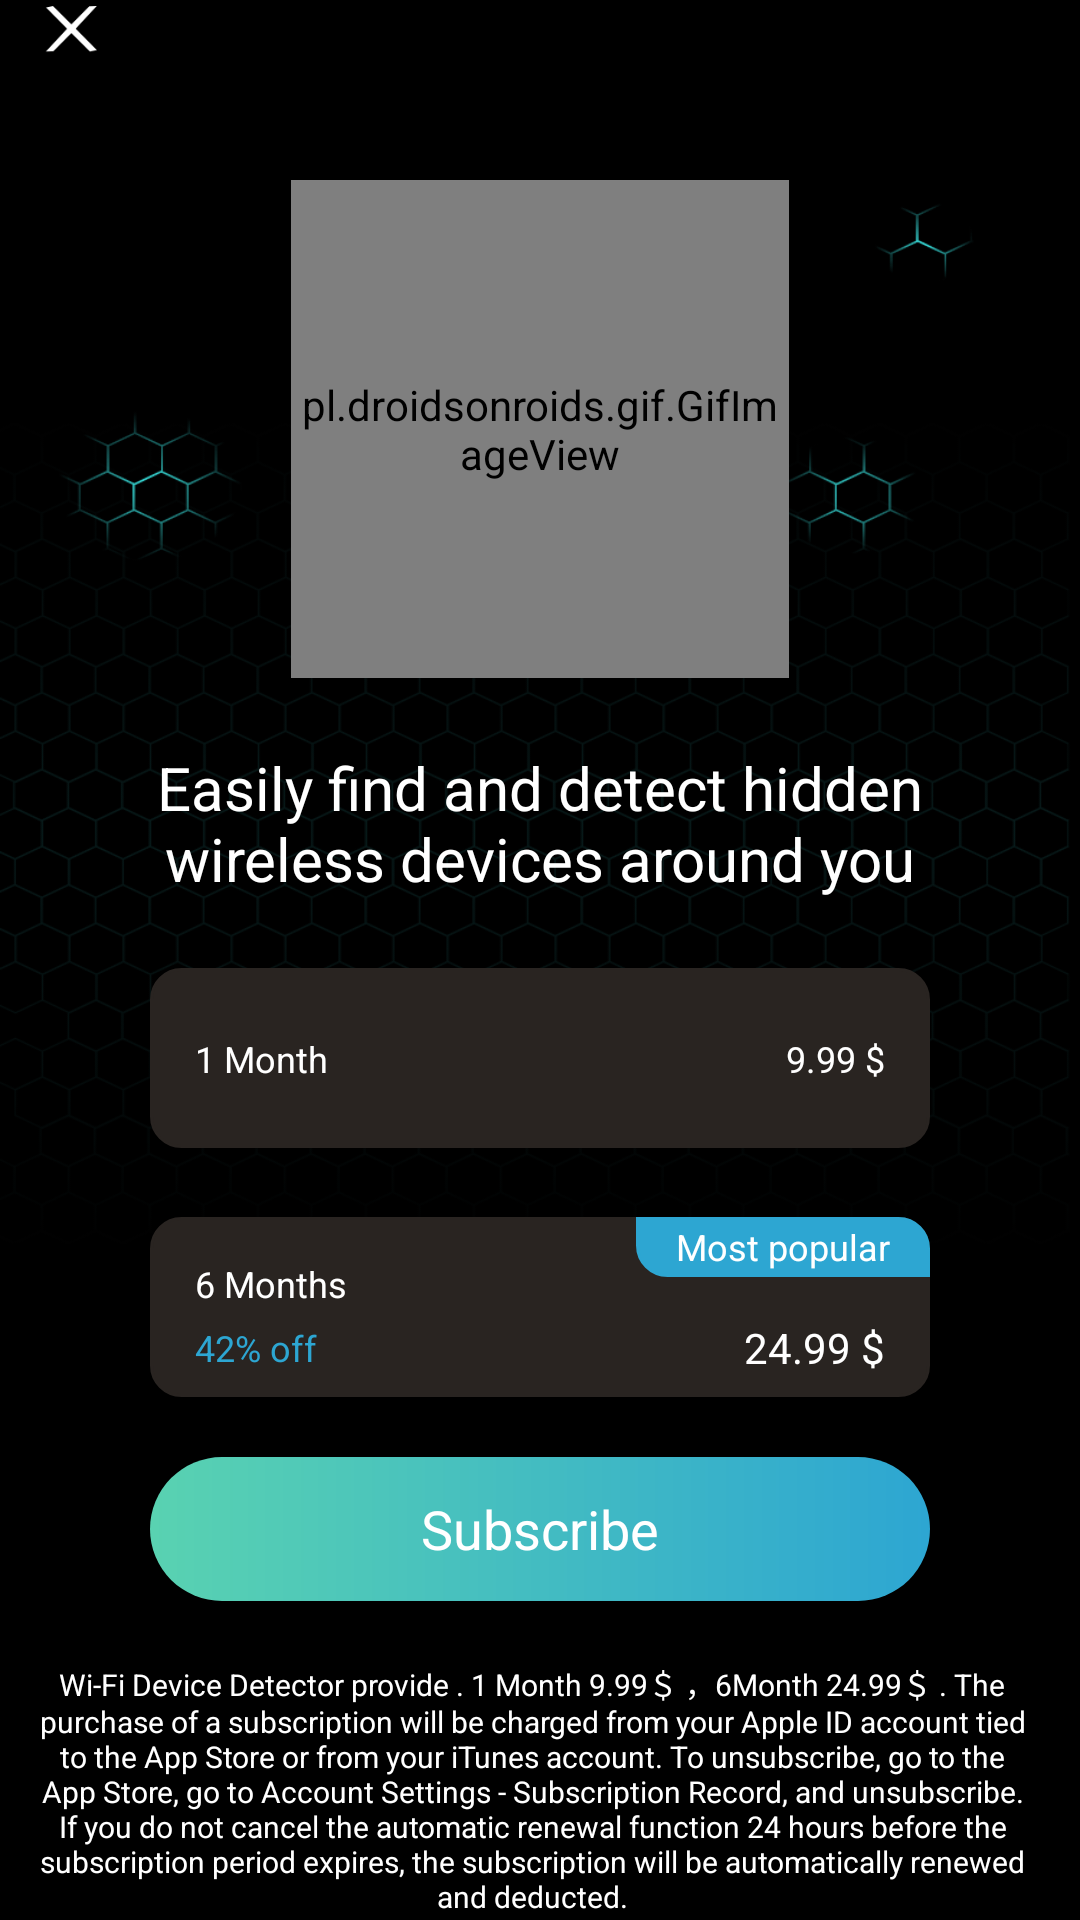

Screen size 1080 × 1920. Icon name, then its center in pixels as point (x, y):
closed: point (71, 29)
